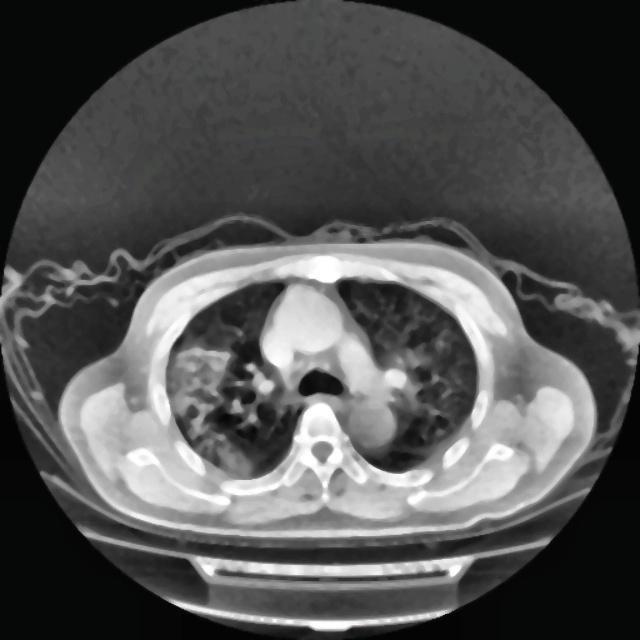covid: (55, 221, 601, 549)
